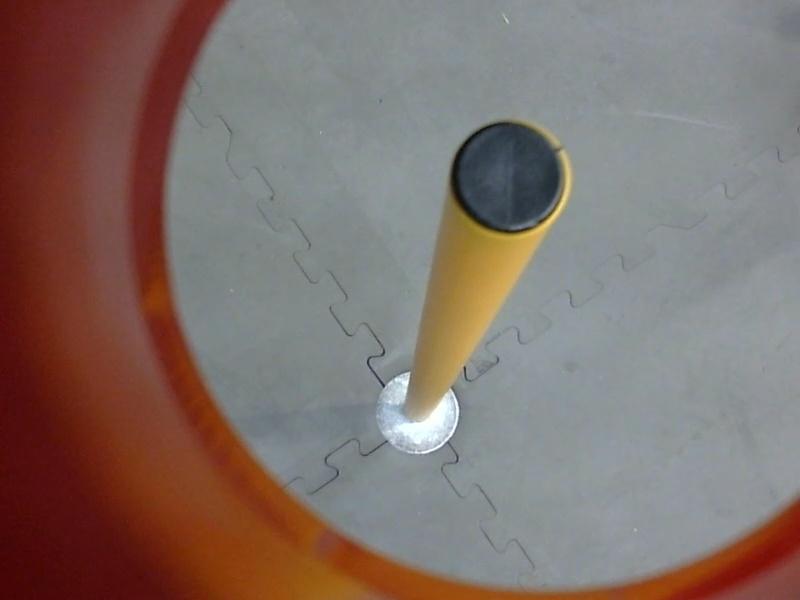tip: (440, 110, 576, 242)
